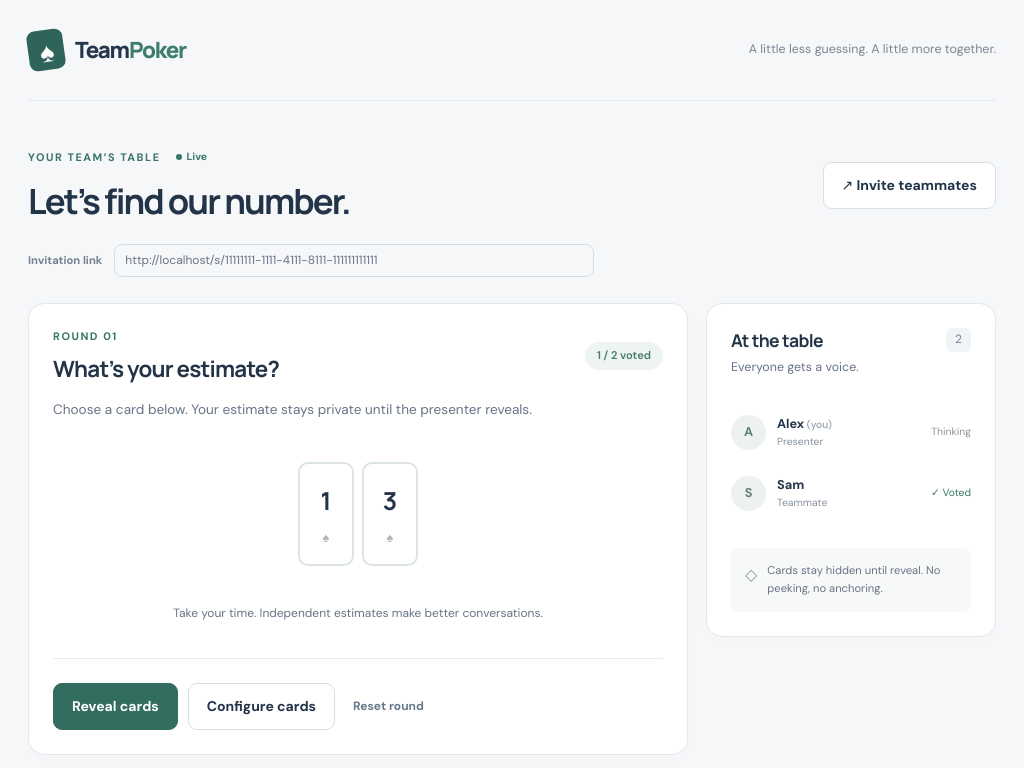
Test case: session interface › rejects duplicate card labels in the editor
Check: the heading "What’s your estimate?" is shown, box [53,354,279,383]
Click the button "Configure cards": [261, 706] box [188,683,335,730]
(page scrolled)
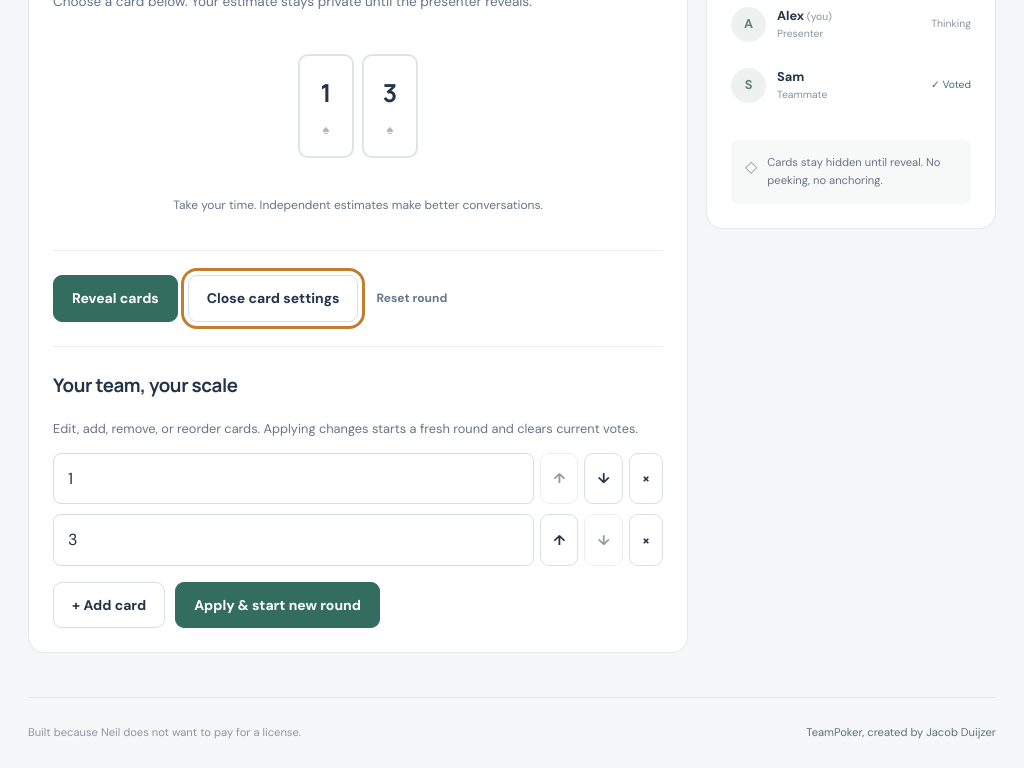
Replace the text in the 2nd field named "Card 2" with "1": [294, 540] box [53,514,534,566]
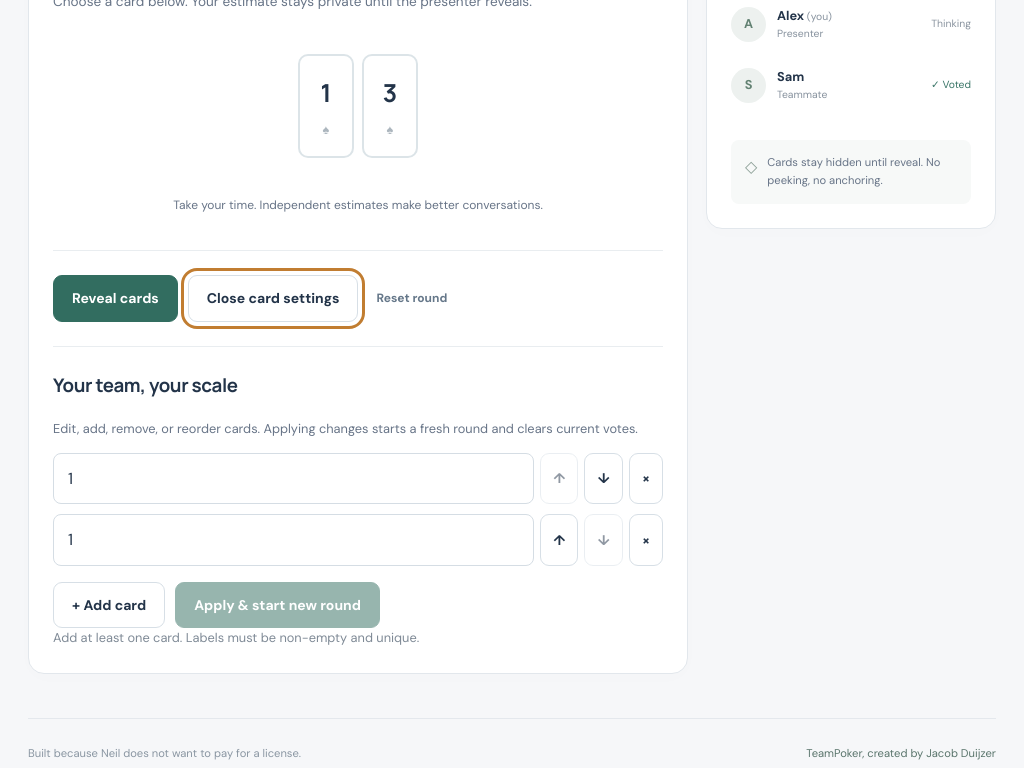
Check: the button "Apply & start new round" is disabled, box [175,582,380,628]
